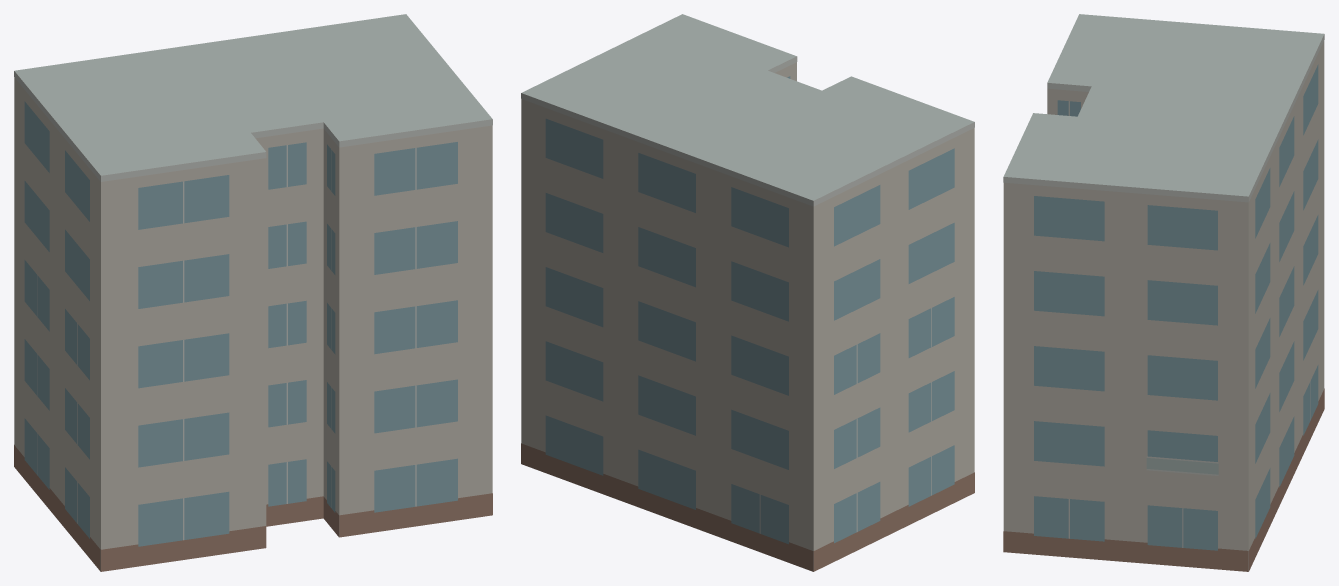
The model's file is survey-upis-32714443.glb.
3 renders of one model, left to right at view 1: azimuth 30°, elevation 25°; view 2: azimuth 150°, elevation 25°; view 3: azimuth 270°, elevation 25°, orthographic. The views are drawn at different scales.
Parts seen in each view (by area): view 1: survey-upis-32714443.tmp; view 2: survey-upis-32714443.tmp; view 3: survey-upis-32714443.tmp.
Boxes of the visible parts, <box> form: survey-upis-32714443.tmp: <box>14,14,492,571</box>; survey-upis-32714443.tmp: <box>521,14,974,571</box>; survey-upis-32714443.tmp: <box>1003,14,1324,571</box>.
Bounding box in the file's own units: 16.28 × 15.6 × 12.1.
